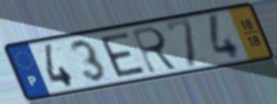3: (69, 37, 108, 83)
4: (206, 13, 241, 63), (44, 42, 76, 89)
7: (163, 16, 199, 71)
E: (97, 30, 148, 79)
R: (129, 24, 182, 76)
